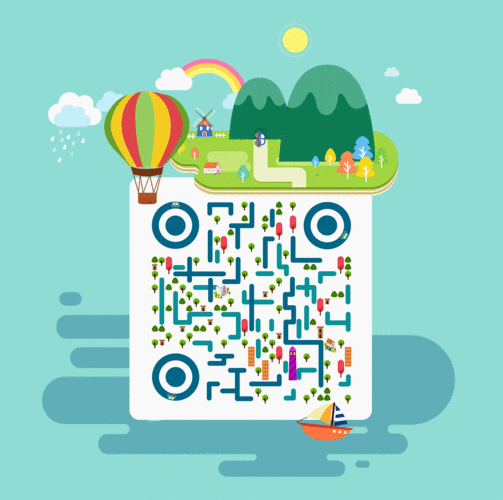QRCode: (147, 198, 358, 409)
